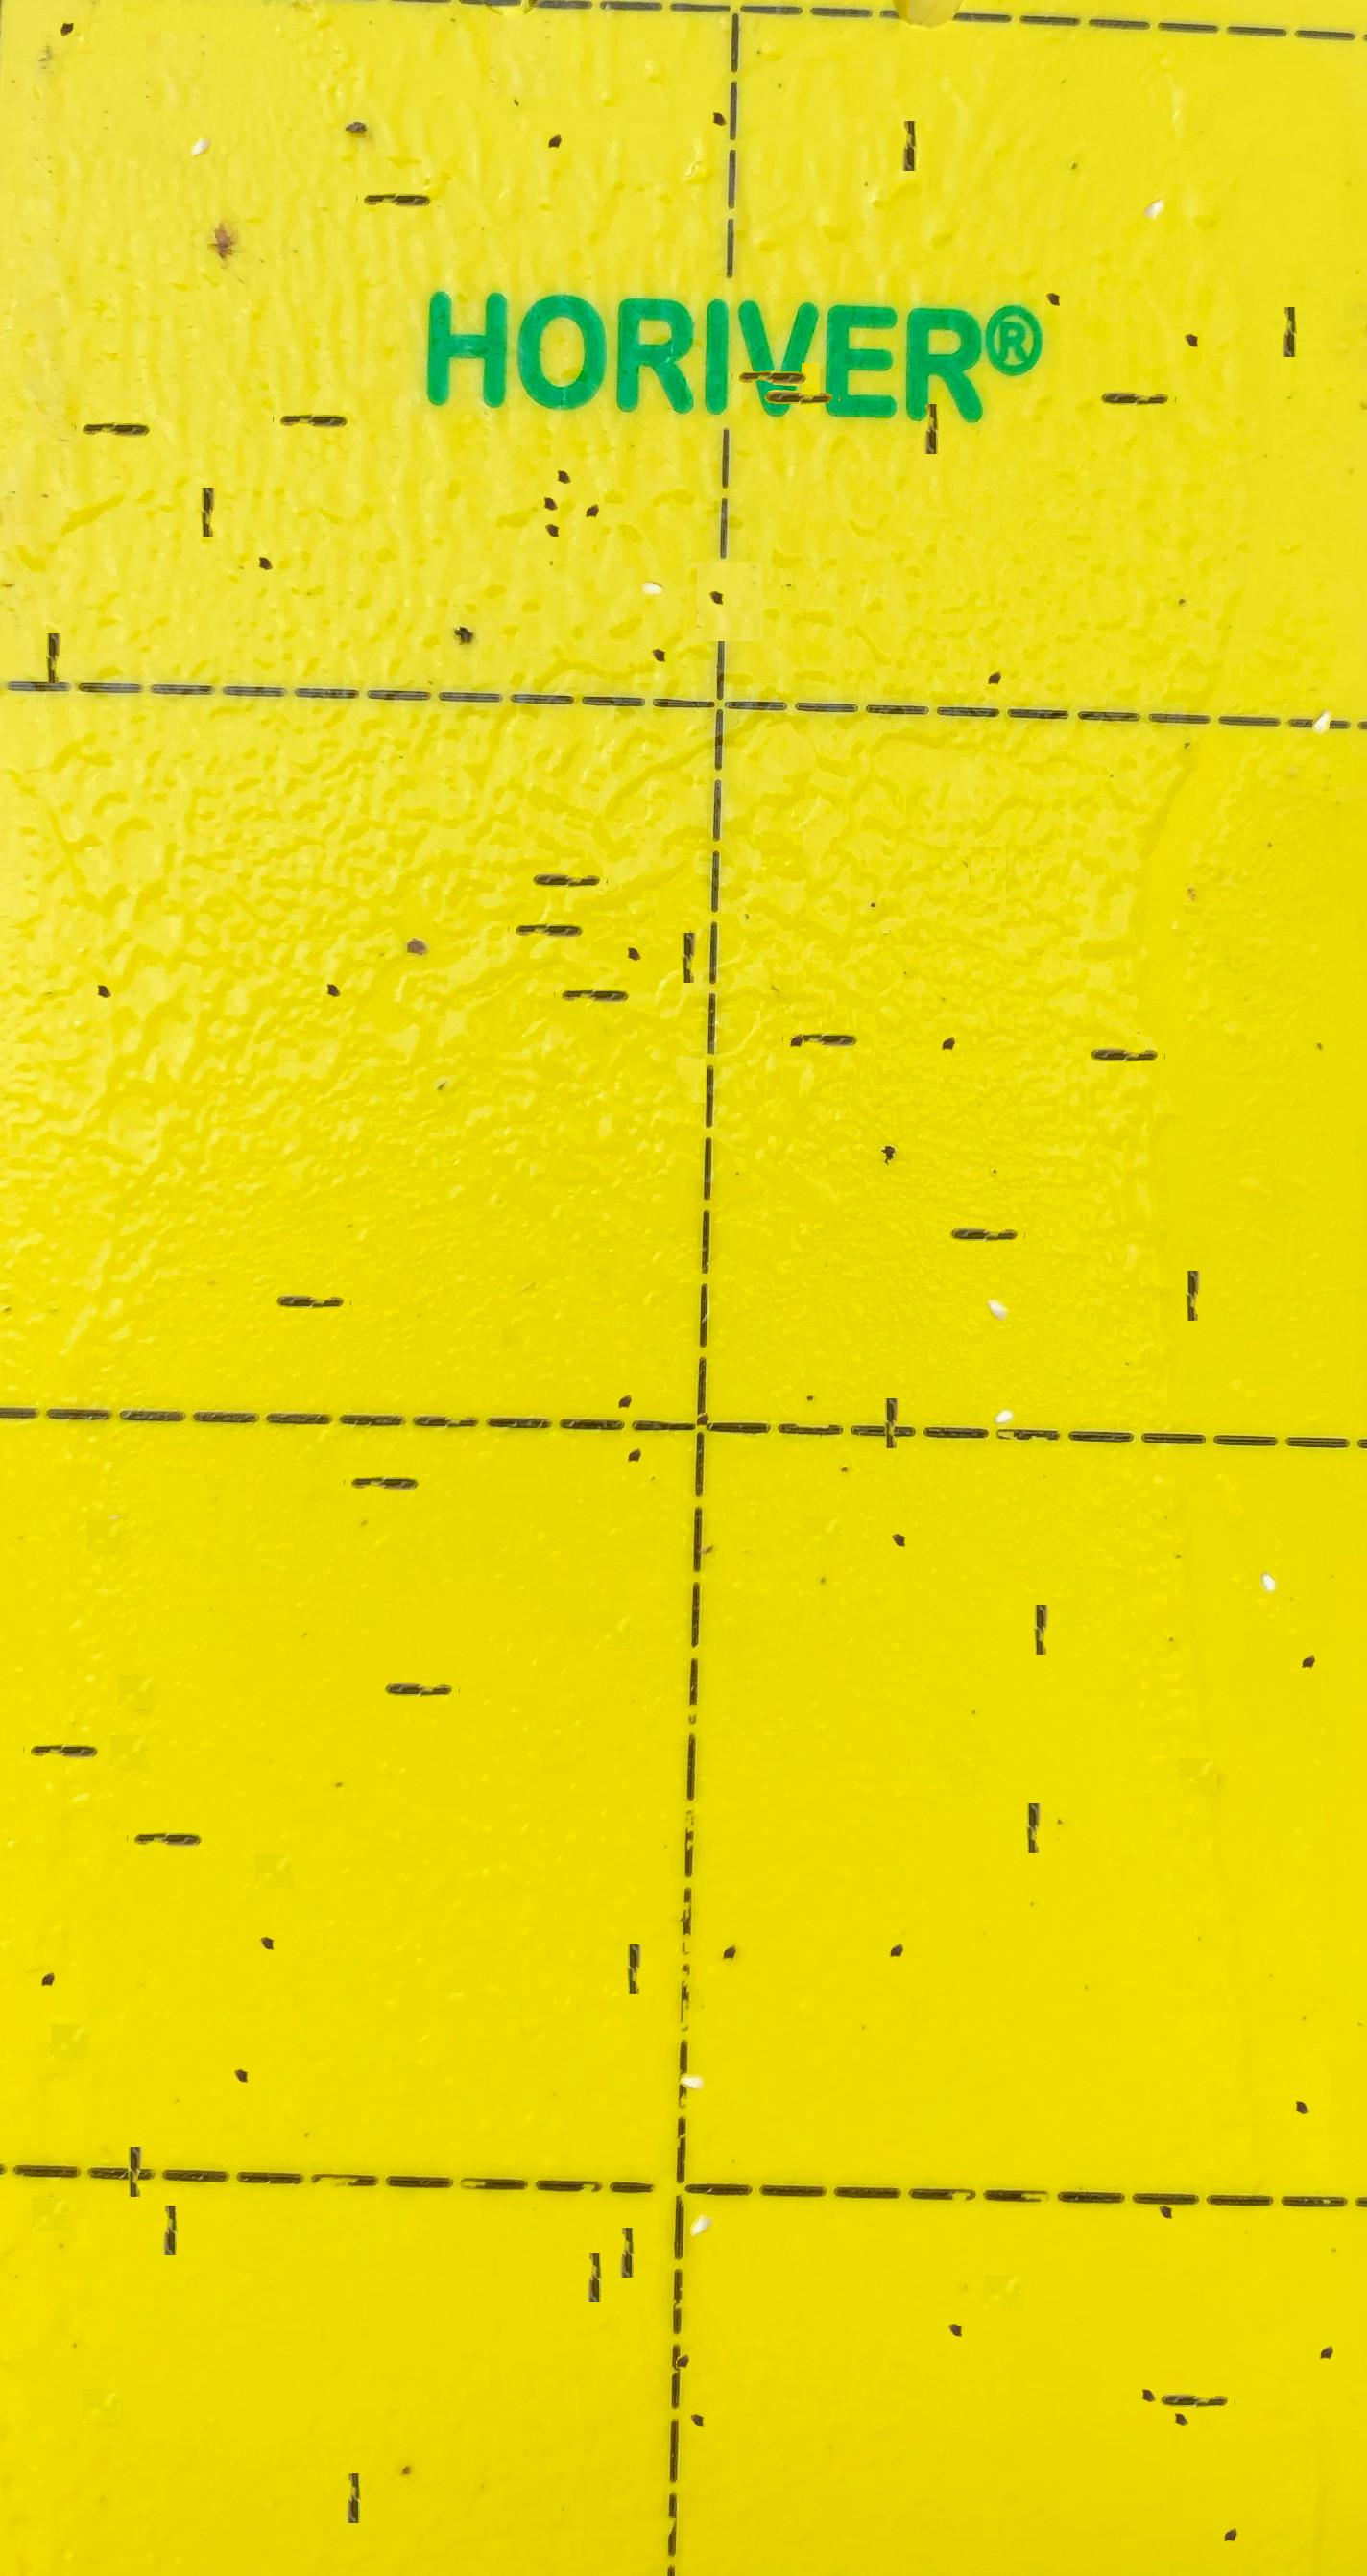white_fly: (983, 1346, 1026, 1394), (1248, 1511, 1289, 1559), (179, 80, 222, 124), (1302, 658, 1345, 702), (977, 1245, 1019, 1290), (680, 2160, 723, 2203), (1133, 147, 1174, 189), (673, 2027, 714, 2065), (631, 532, 672, 567)
